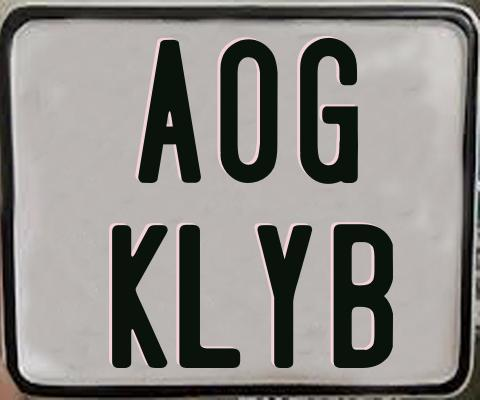0: (217, 38, 275, 185)
A: (136, 37, 201, 181)
B: (334, 223, 399, 371)
G: (299, 37, 357, 184)
K: (111, 225, 168, 373)
L: (179, 224, 243, 368)
Y: (254, 224, 312, 370)
